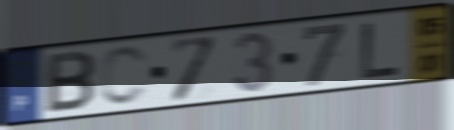3: (231, 30, 275, 97)
7: (170, 33, 218, 105), (301, 21, 347, 89)
B: (43, 49, 97, 117)
C: (97, 44, 150, 109)
L: (359, 19, 404, 81)
